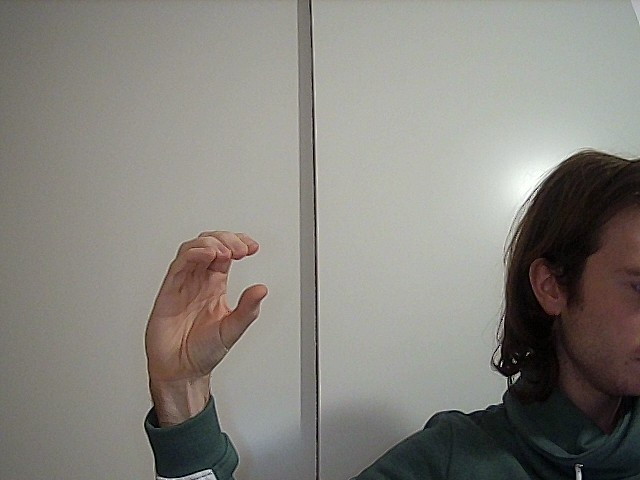c: (134, 217, 283, 386)
